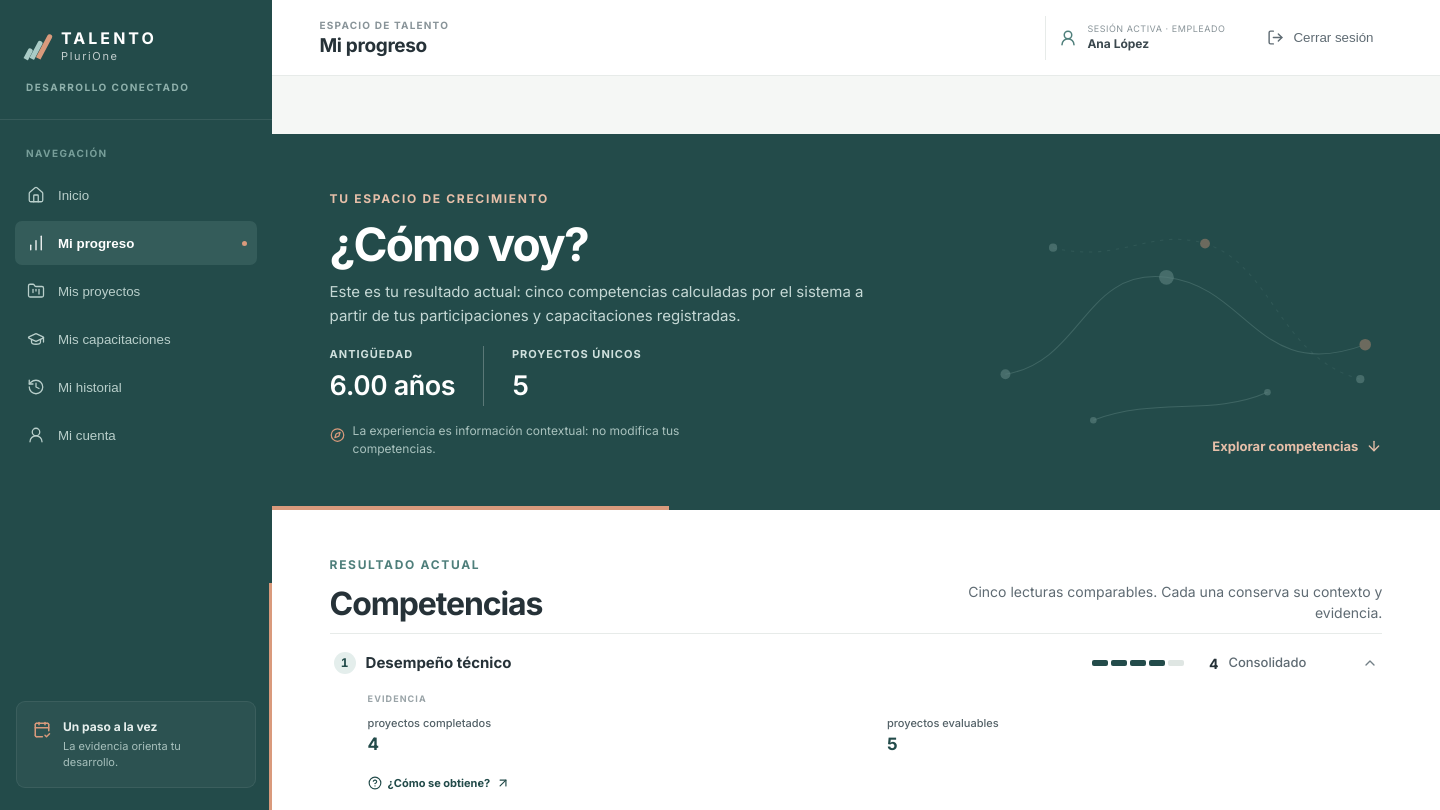
Test: Shell de Empleado — navegación entre secciones › Mi cuenta abre su vista real (§21.6), no el estado temporal
Check: the heading "Competencias" is shown, box [330, 586, 542, 623]
What coordinates should you click on to do the following:
click the button "Mi cuenta"
I would click on:
 (136, 435)
Its box is [15, 413, 257, 457].
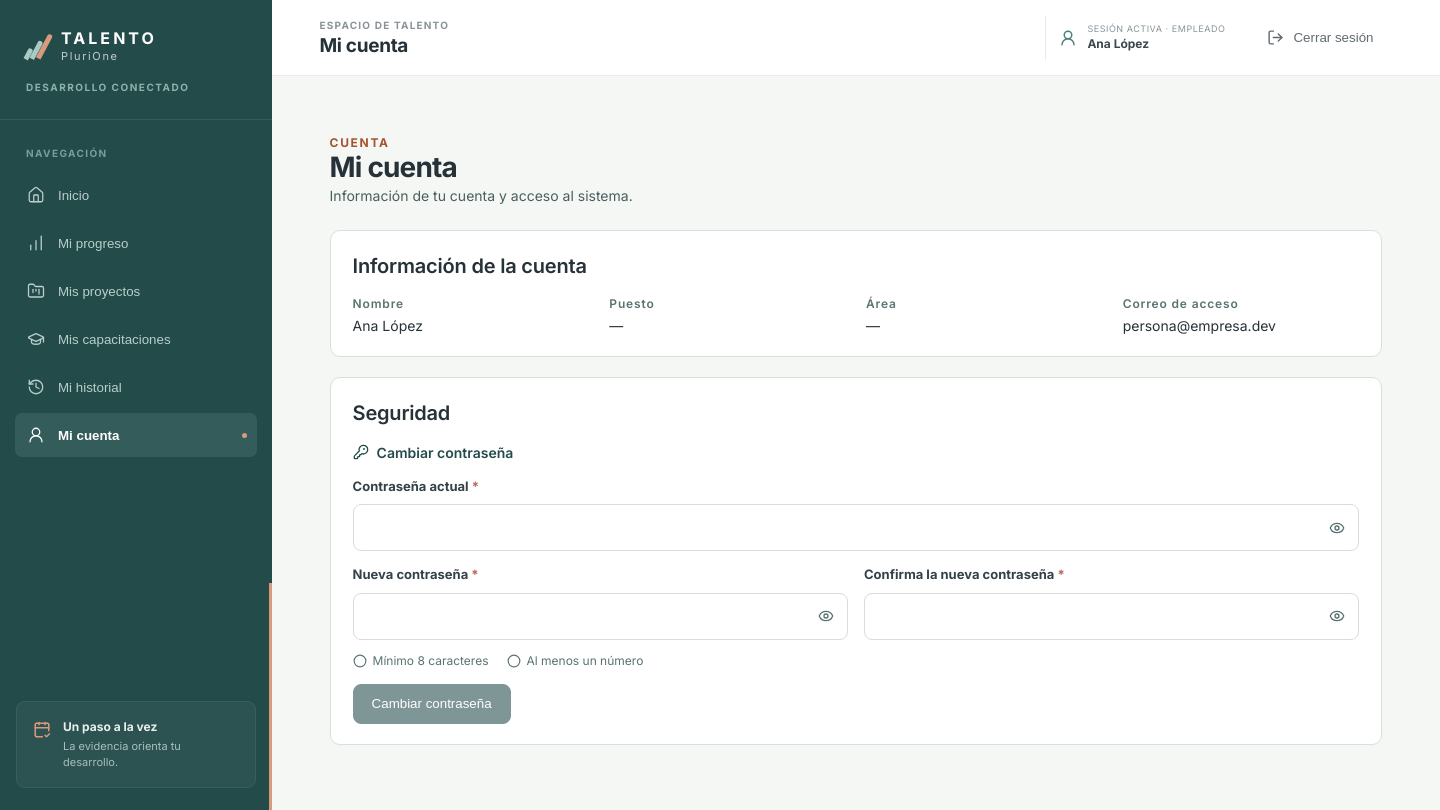
Check: the heading "Mi cuenta" below "Espacio de talento" is shown, box [320, 34, 408, 57]
Check: the heading "Información de la cuenta" is shown, box [353, 254, 587, 278]
